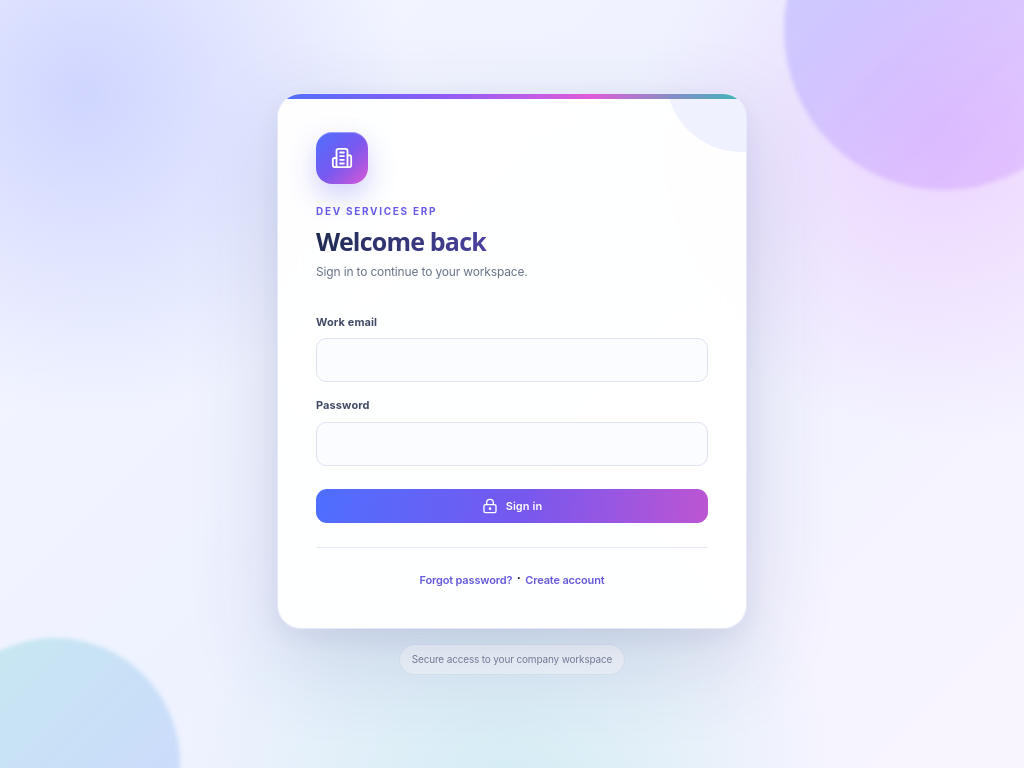
it: LoginPage › offers an OTP field when the server requires two-factor verification
The image size is (1024, 768).
Type "employee@example.com" into the field labelled "Work email".
click(512, 360); type("employee@example.com")  # box [316,338,708,382]
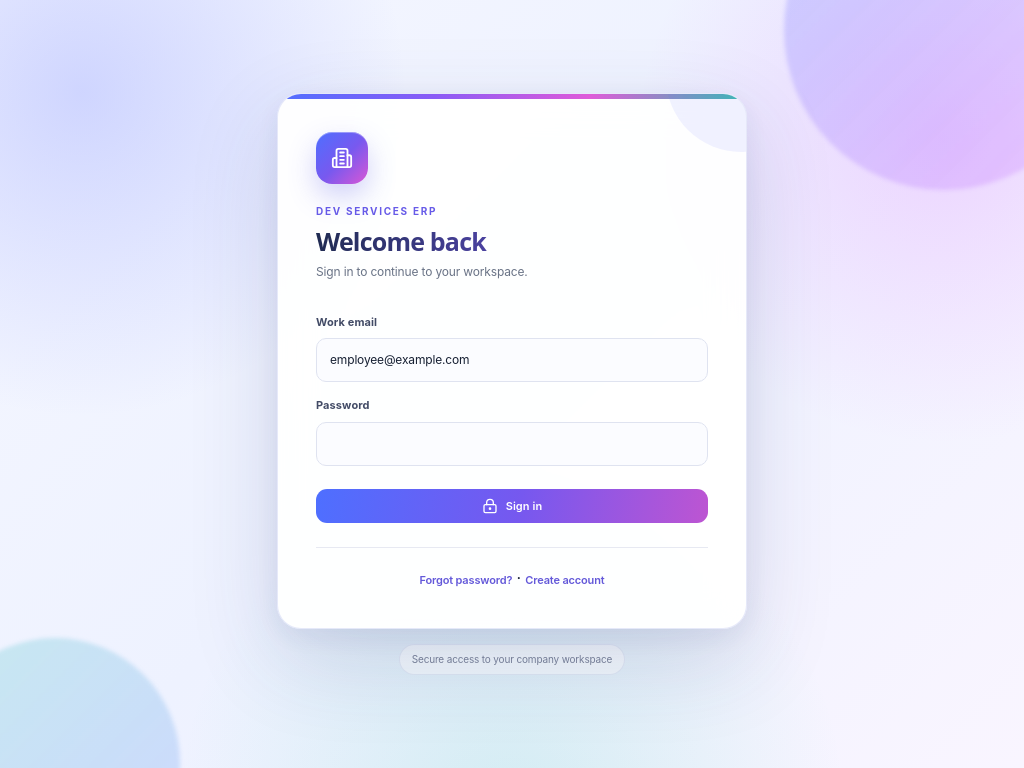
Type "correct-password" into the password field labelled "Password".
click(512, 444); type("correct-password")  # box [316,422,708,466]
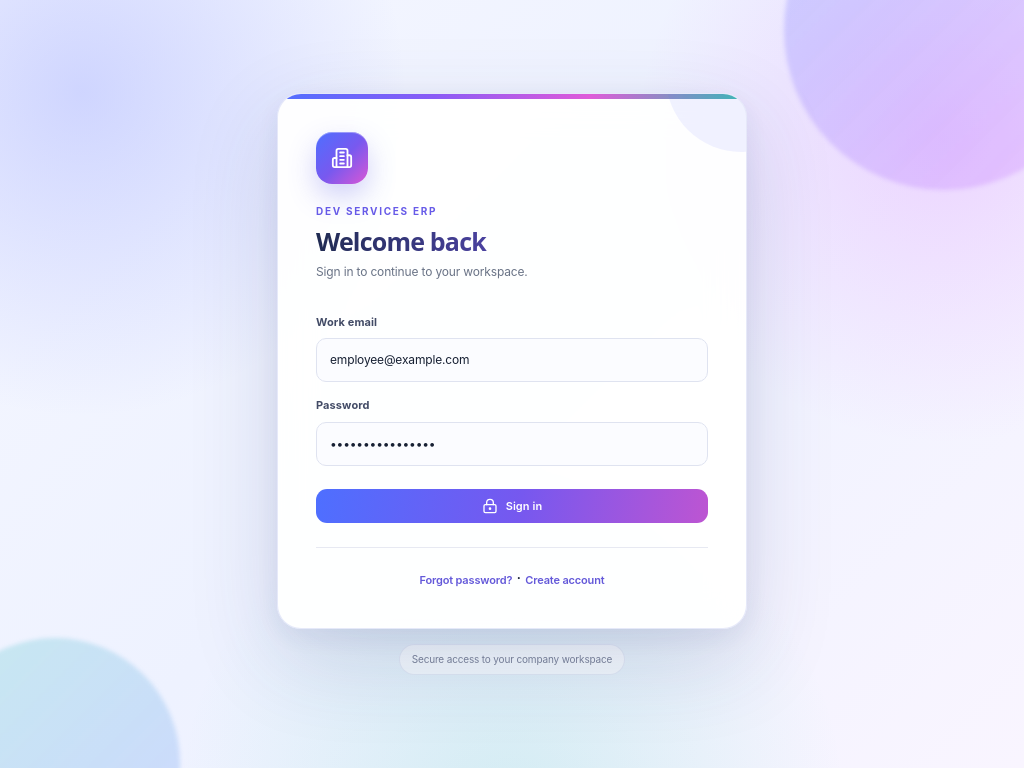
Click the button "Sign in".
click(512, 506)  # box [316,489,708,523]
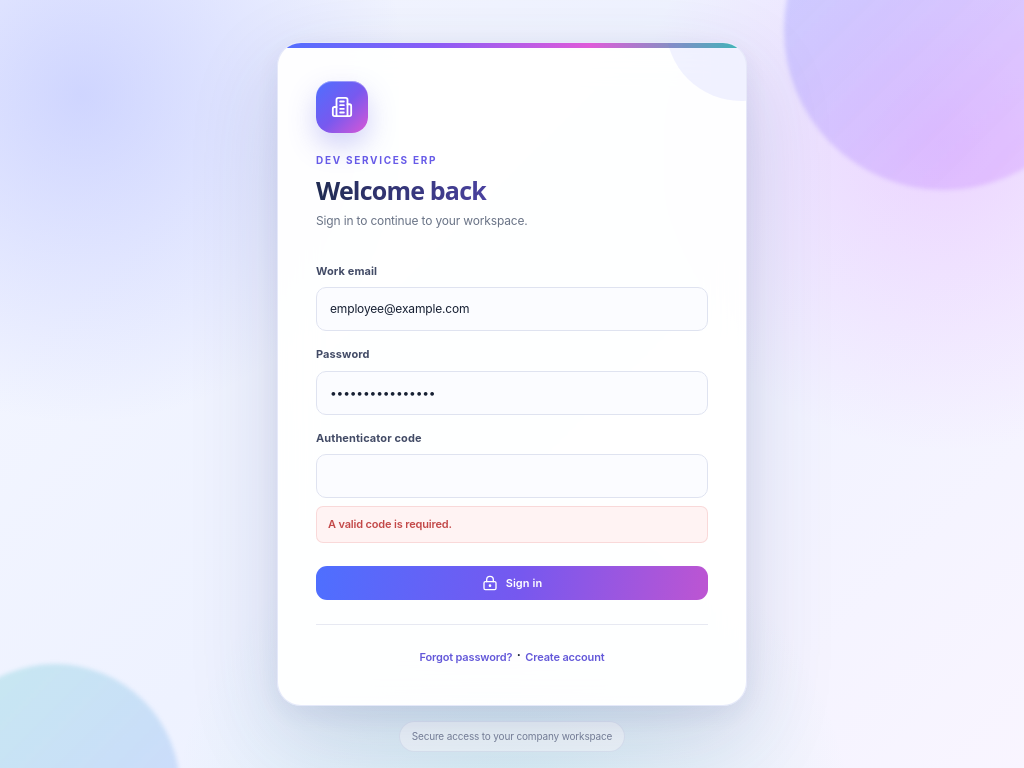
expect the field labelled "Authenticator code" is shown: met, box [316,454,708,498]
